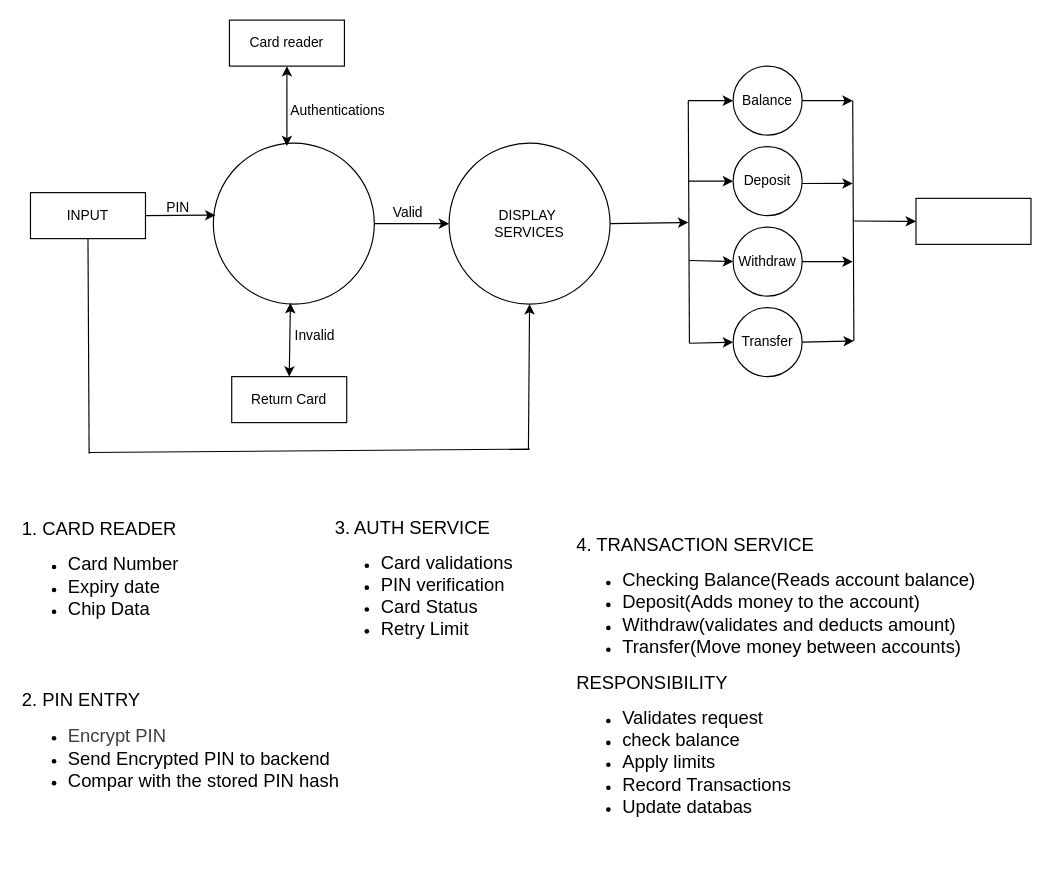
This 1051x889 diagram has some shape labels left out. The shapes that lost their labels are listed below. From the top down, each one's centre as x and y in pixels, then its label:
[293,223]: AUTH SERVICES
[973,220]: EXIT
